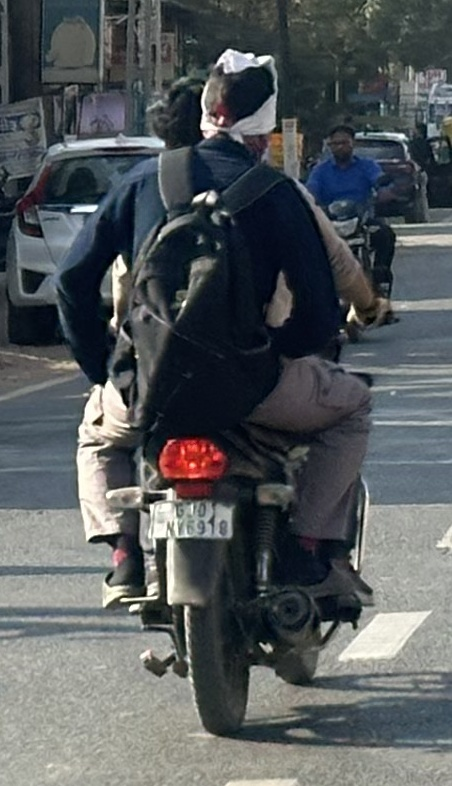BikeWithRider: (46, 36, 391, 731), (271, 95, 416, 341)
NoHelmet: (137, 61, 237, 165), (203, 43, 285, 164), (314, 116, 362, 169)
